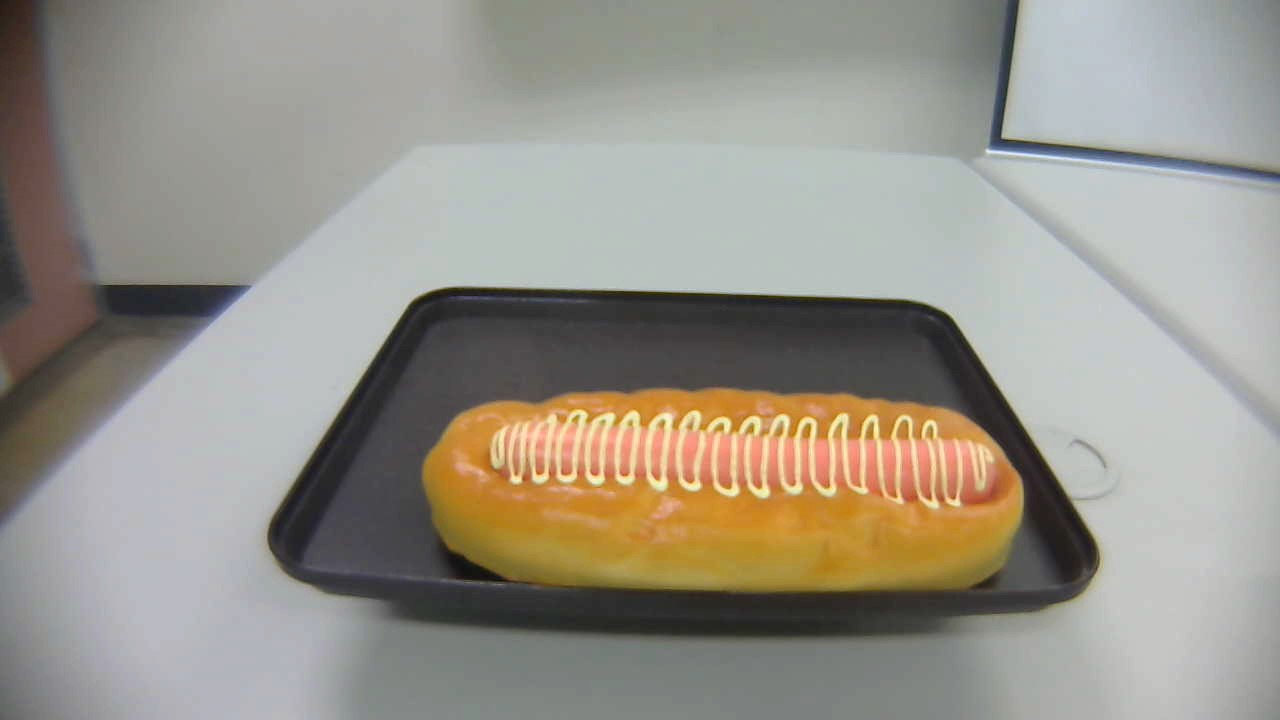hot dog: (420, 385, 1026, 593)
